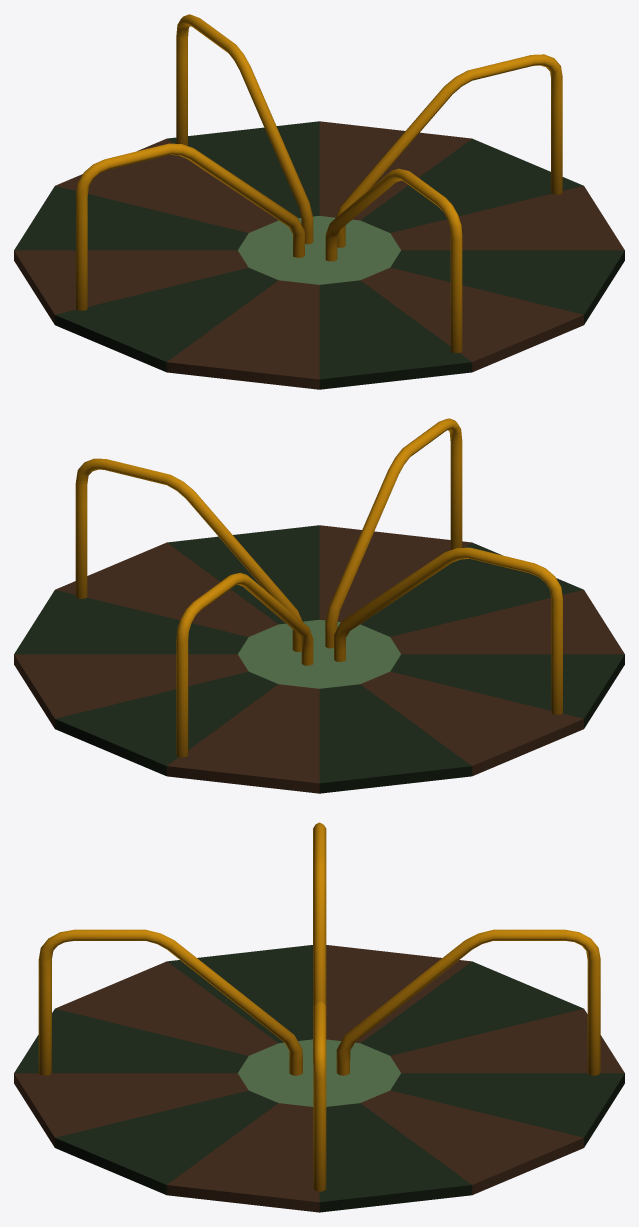
Rendered from ParkSpinner_Regular.fbx.
The picture shows the model from 3 angles, top to bottom: view 1: azimuth 30°, elevation 25°; view 2: azimuth 150°, elevation 25°; view 3: azimuth 270°, elevation 25°; orthographic projection.
Visible parts, largest first — view 1: ParkSpinner_Regular; view 2: ParkSpinner_Regular; view 3: ParkSpinner_Regular.
Boxes of the visible parts, x1,y1,x2,y2 form: ParkSpinner_Regular: (14, 14, 624, 389); ParkSpinner_Regular: (14, 418, 624, 793); ParkSpinner_Regular: (14, 822, 624, 1212).
Bounding box in the file's own units: 332 × 98.81 × 332.
